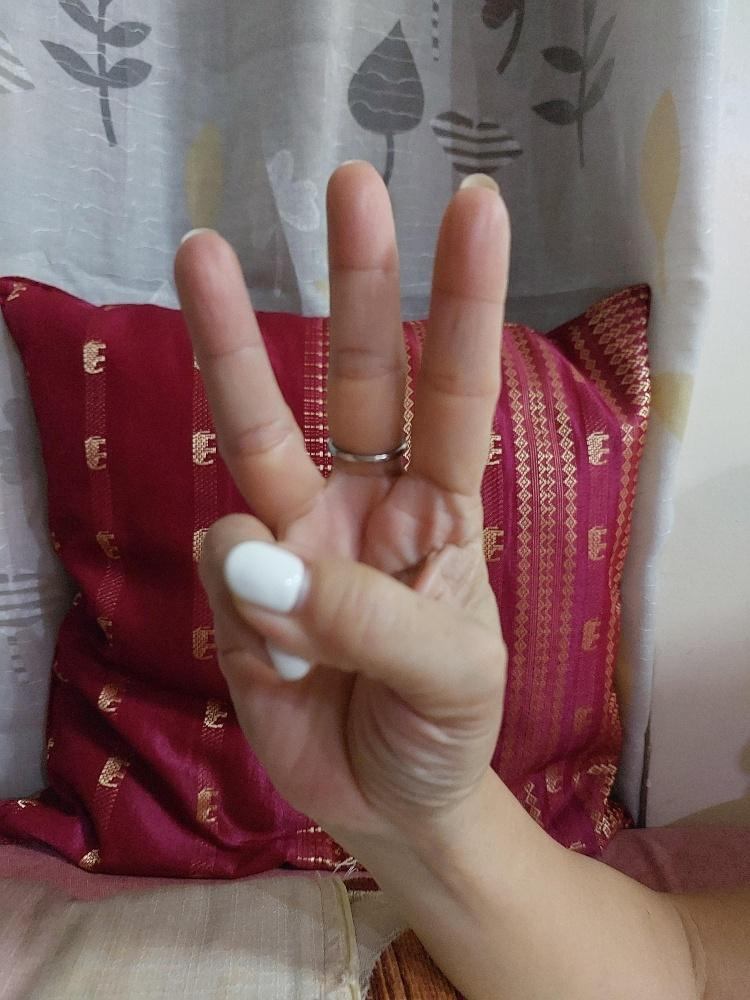w: (169, 154, 514, 814)
